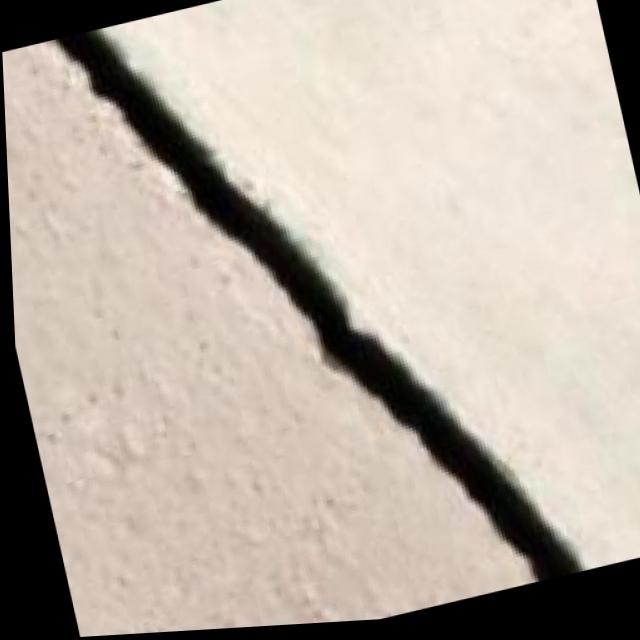Crack: (34, 0, 587, 638)
